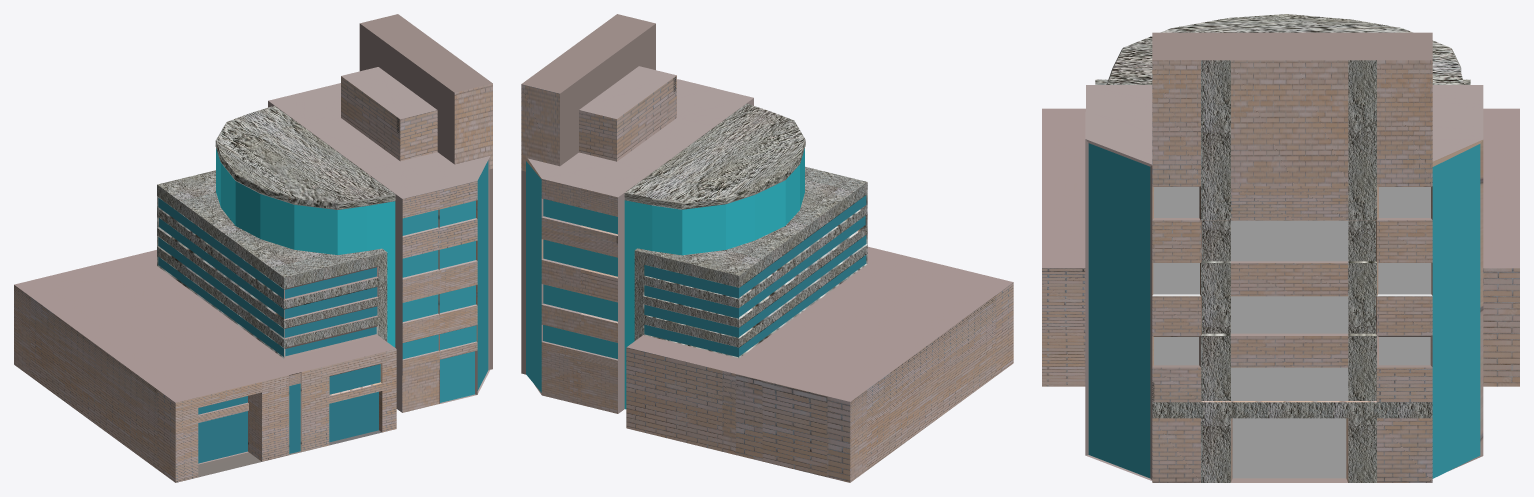
Rendered from edificio fn.fbx.
3 renders of one model, left to right at view 1: azimuth 30°, elevation 25°; view 2: azimuth 150°, elevation 25°; view 3: azimuth 270°, elevation 25°, orthographic. The views are drawn at different scales.
Visible parts, largest first — view 1: Cube.003, Cube.002, Cylinder, Cube.001; view 2: Cube.003, Cube.002, Cylinder, Cube.001; view 3: Cube.001, Cube.002, Cube.003, Cylinder.
Boxes of the visible parts, x1,y1,x2,y2 form: Cube.003: (14, 170, 396, 482); Cube.002: (268, 67, 489, 412); Cylinder: (215, 105, 395, 347); Cube.001: (359, 14, 492, 369); Cube.003: (626, 166, 1013, 482); Cube.002: (526, 66, 753, 413); Cylinder: (624, 103, 805, 409); Cube.001: (521, 14, 655, 374); Cube.001: (1152, 32, 1432, 482); Cube.002: (1085, 85, 1483, 480); Cube.003: (1042, 79, 1519, 386); Cylinder: (1106, 14, 1464, 84).
Bounding box in the file's own units: 2825 × 2179 × 2230.
